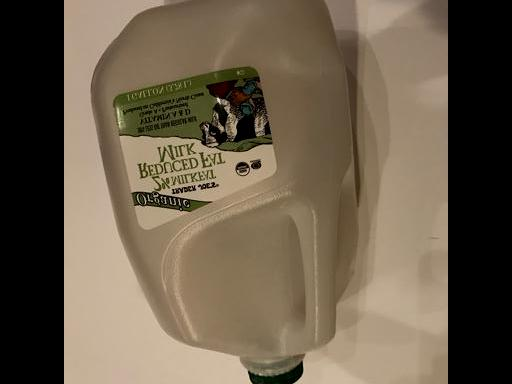bottle: (71, 135, 377, 150)
